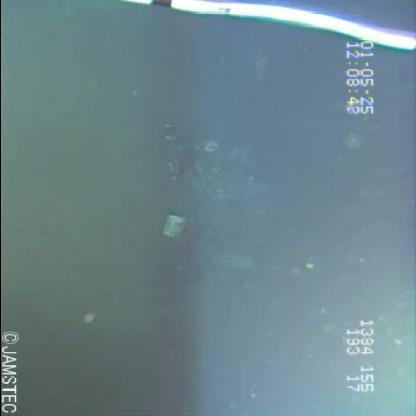Rác: (155, 209, 191, 243)
